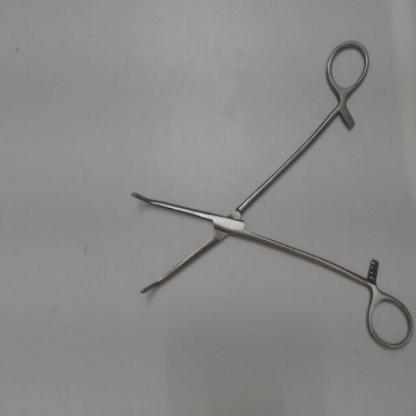Lahey Forceps: (118, 31, 415, 355)
